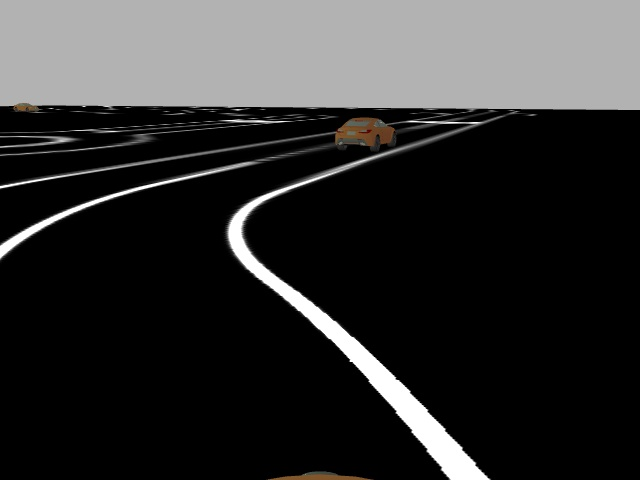obstacle_car: (330, 116, 403, 151)
